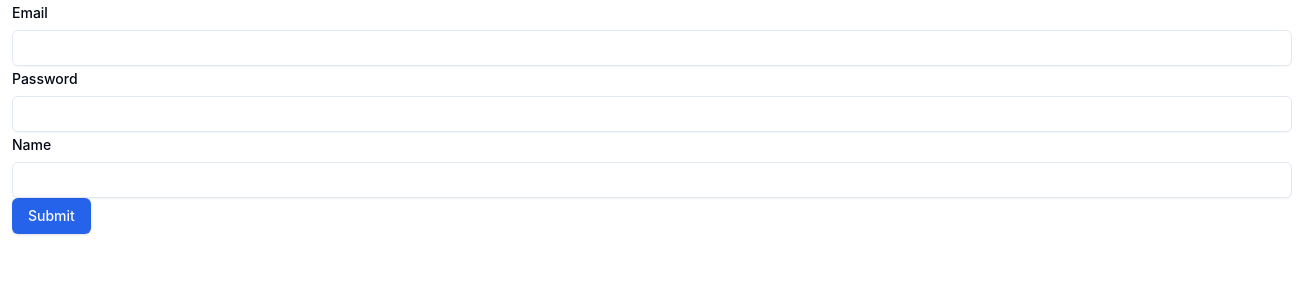
ValidatedInput › should clear error when field becomes valid
The image size is (1304, 304).
Click the field with test id "input-email".
click(652, 48)  # box x1=12 y1=30 x2=1292 y2=66
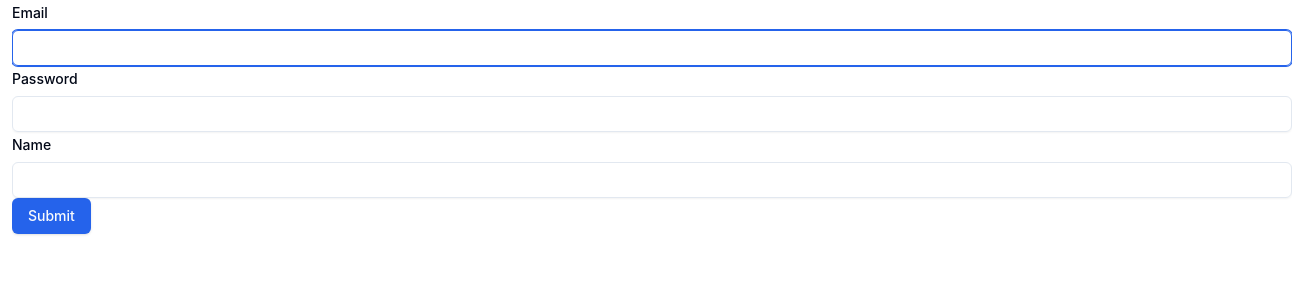
Press Tab
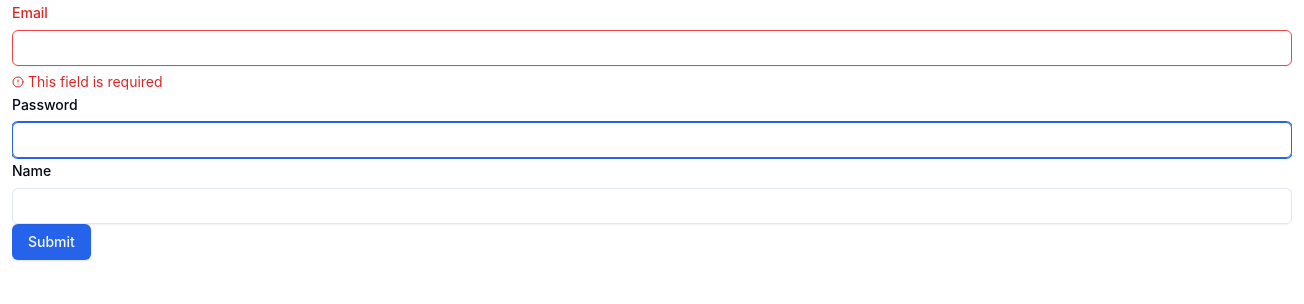
Now the message "This field is required" is shown, box x1=12 y1=73 x2=163 y2=90
Type "test@example.com" into the field with test id "input-email".
click(652, 48); type("test@example.com")  # box x1=12 y1=30 x2=1292 y2=66
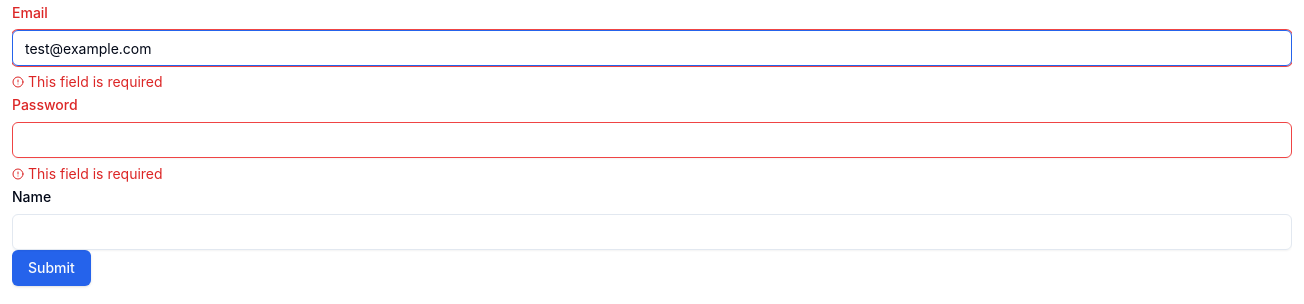
Press Tab
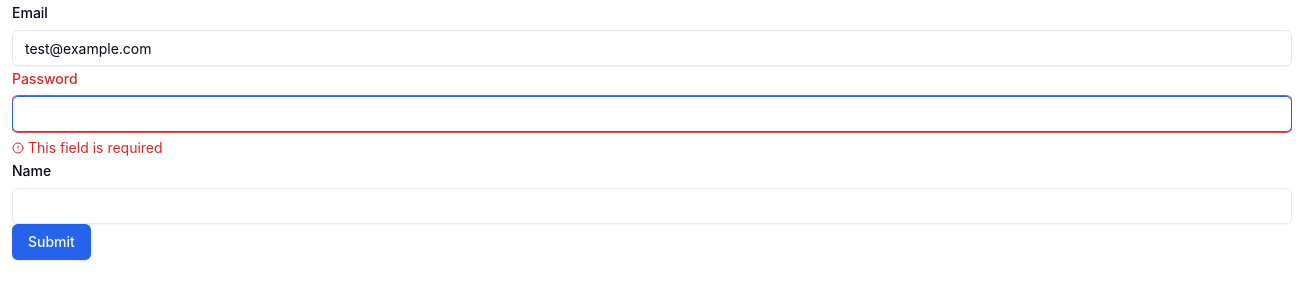
Now the message with test id "error-email" is gone
